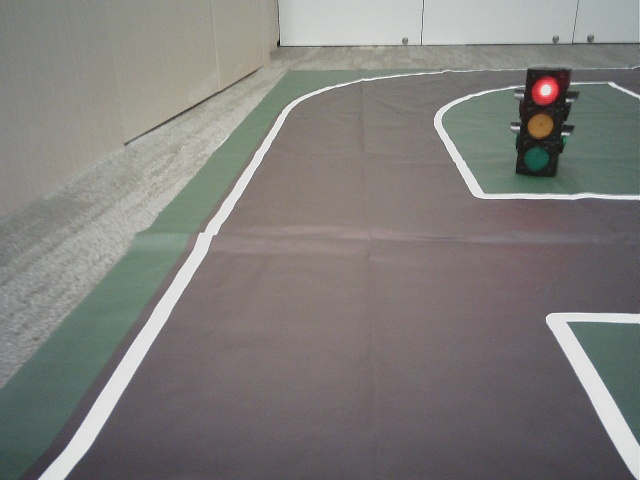red: (527, 72, 557, 172)
